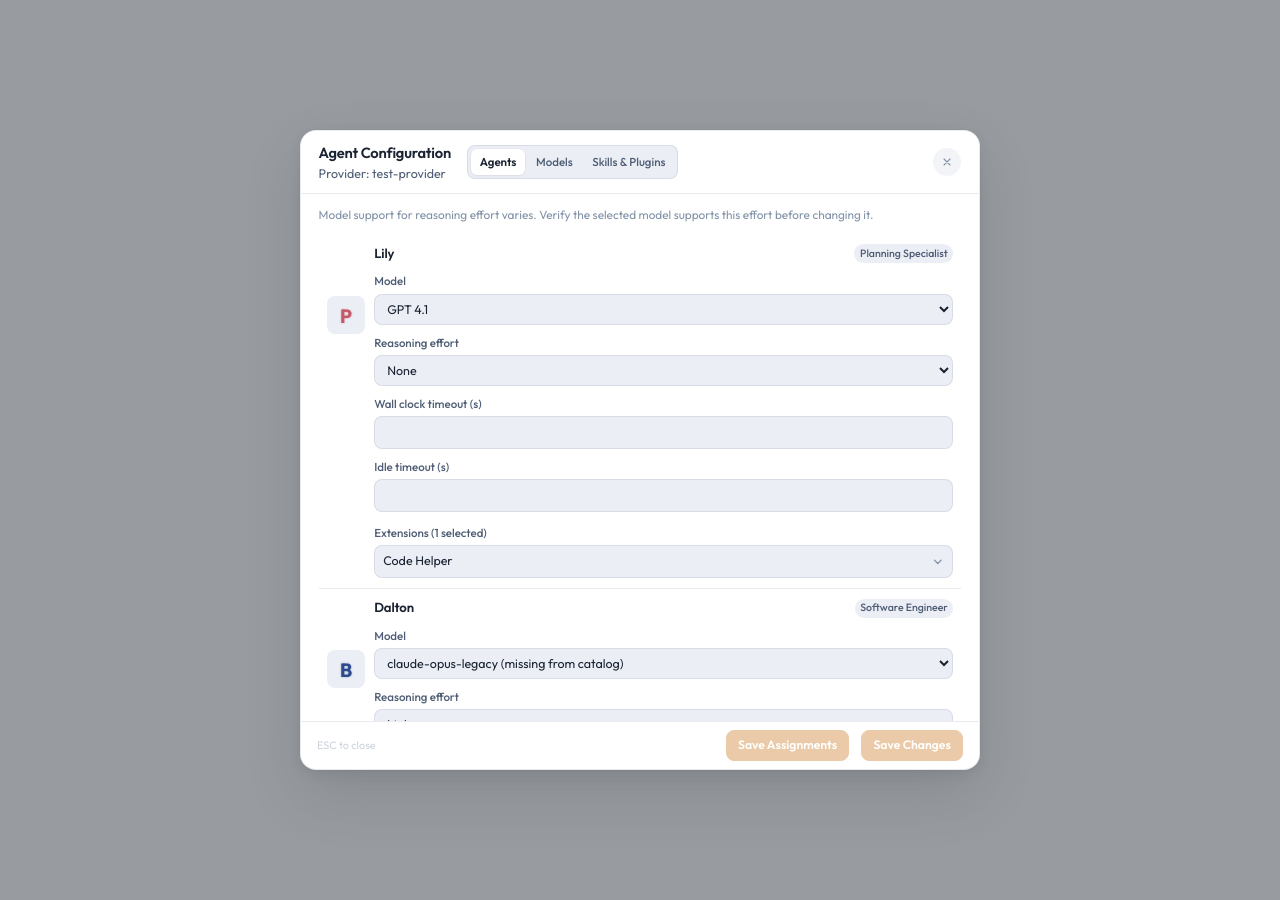
Scenario: AgentConfigModal › renders per-agent extension multiselect with entry name on left and Skill/Plugin on right
# Open Lily's multi-select menu to reveal the option rows.
Click the button with aria-label "Select skills and plugins for Lily": (418, 561) x1=374 y1=545 x2=953 y2=578
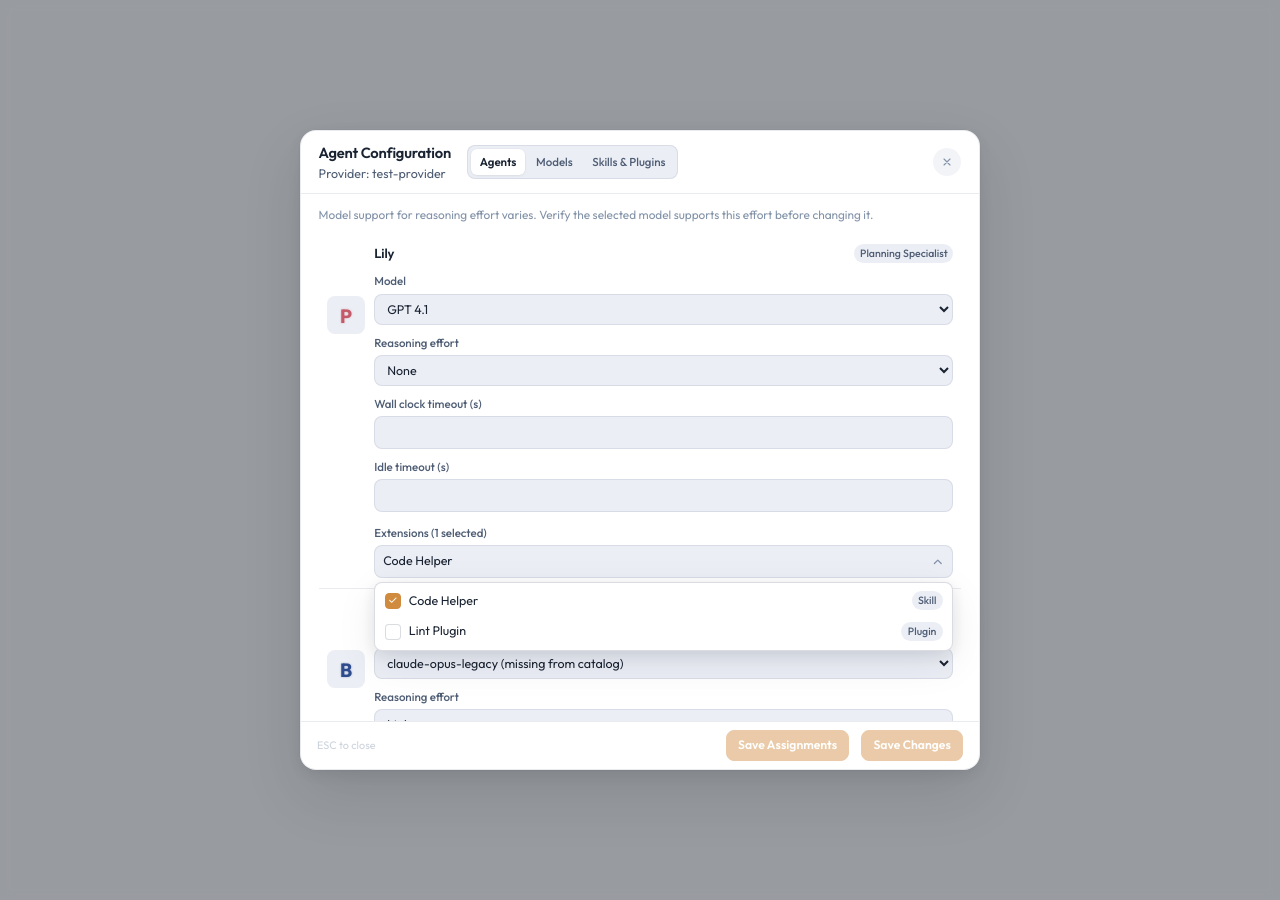
Expected: the list named "Lily extension assignments" is shown, x1=374 y1=582 x2=953 y2=651
Expected: the 2nd text "Code Helper" is shown, x1=409 y1=592 x2=478 y2=608
Expected: the text "Skill" is shown, x1=912 y1=591 x2=943 y2=610
